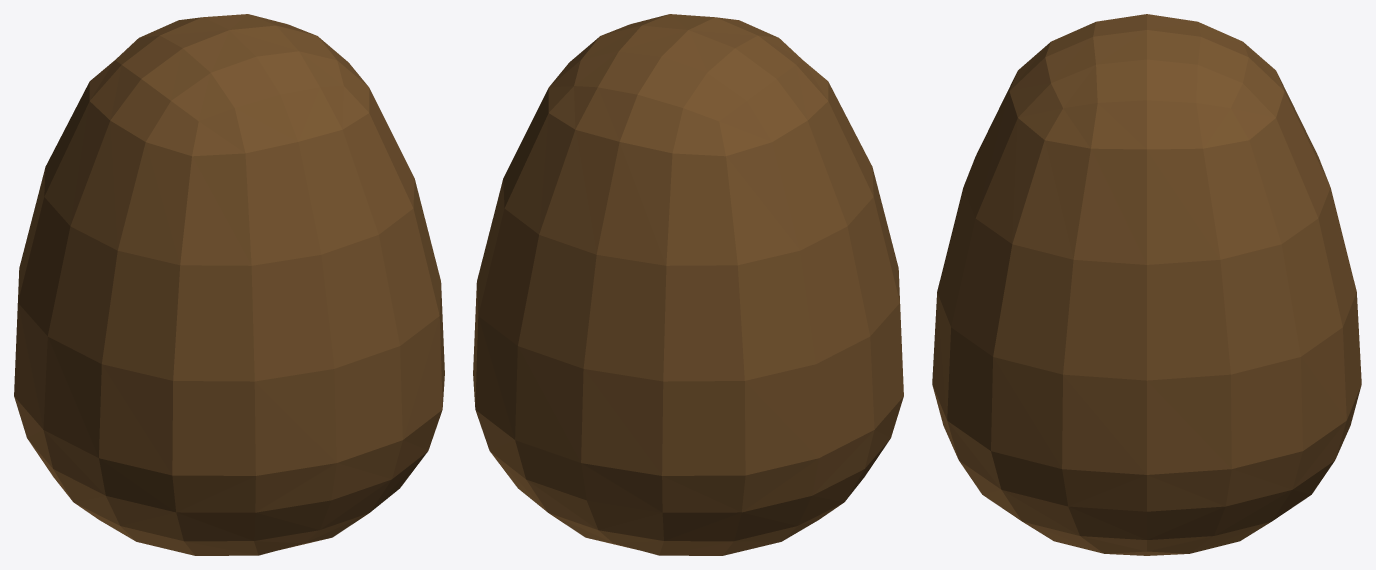
The model's file is egg-whole.glb.
3 renders of one model, left to right at view 1: azimuth 30°, elevation 25°; view 2: azimuth 150°, elevation 25°; view 3: azimuth 270°, elevation 25°, orthographic.
Parts seen in each view (by area): view 1: Egg_Whole; view 2: Egg_Whole; view 3: Egg_Whole.
Boxes of the visible parts, <box> form: Egg_Whole: <box>14,14,444,555</box>; Egg_Whole: <box>473,14,903,555</box>; Egg_Whole: <box>932,14,1361,555</box>.
Size of the model in its own units: 36.33 by 46.59 by 36.33.
